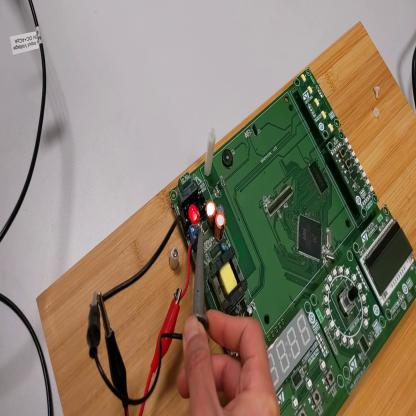hand: (177, 310, 279, 413)
low voltage board: (103, 68, 415, 416)
oscilloscope probe tip: (193, 227, 209, 332)
working area: (38, 23, 416, 415)
